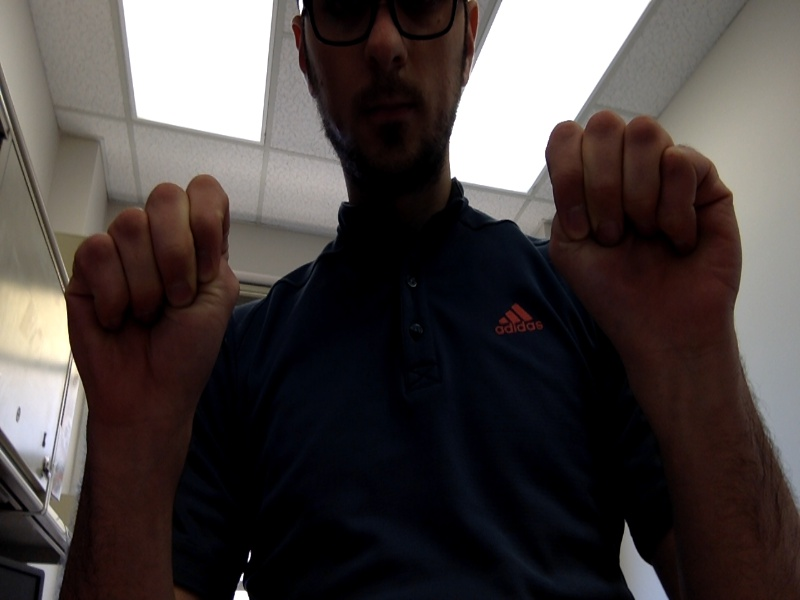0-hand: (545, 115, 743, 334), (69, 174, 238, 414)
